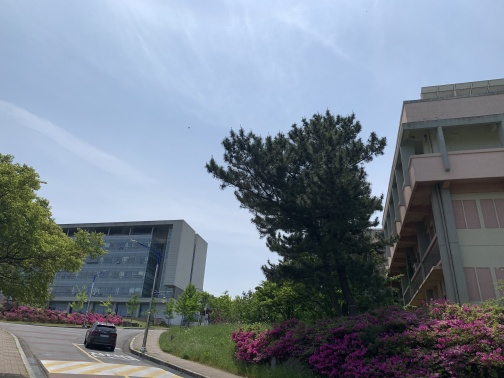College Of Education: (373, 64, 503, 311)
